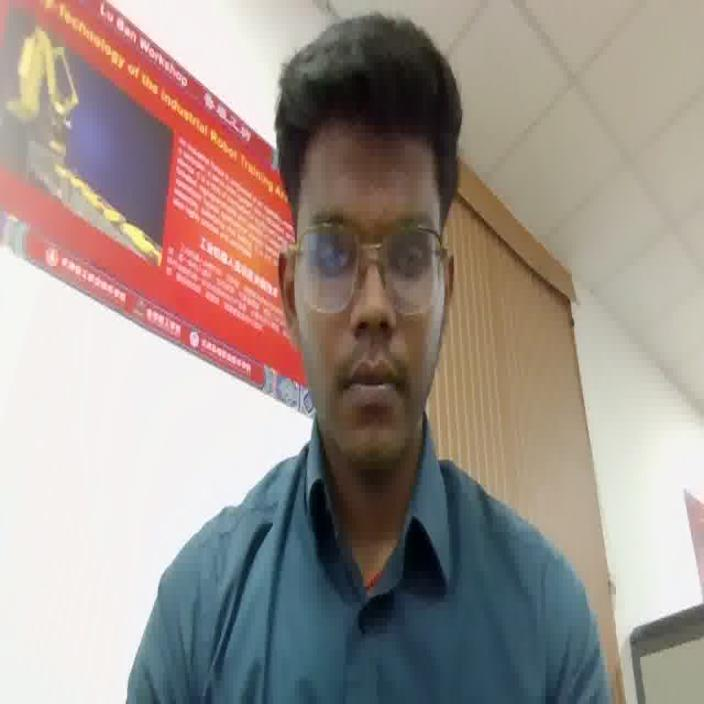know: (126, 14, 611, 703)
